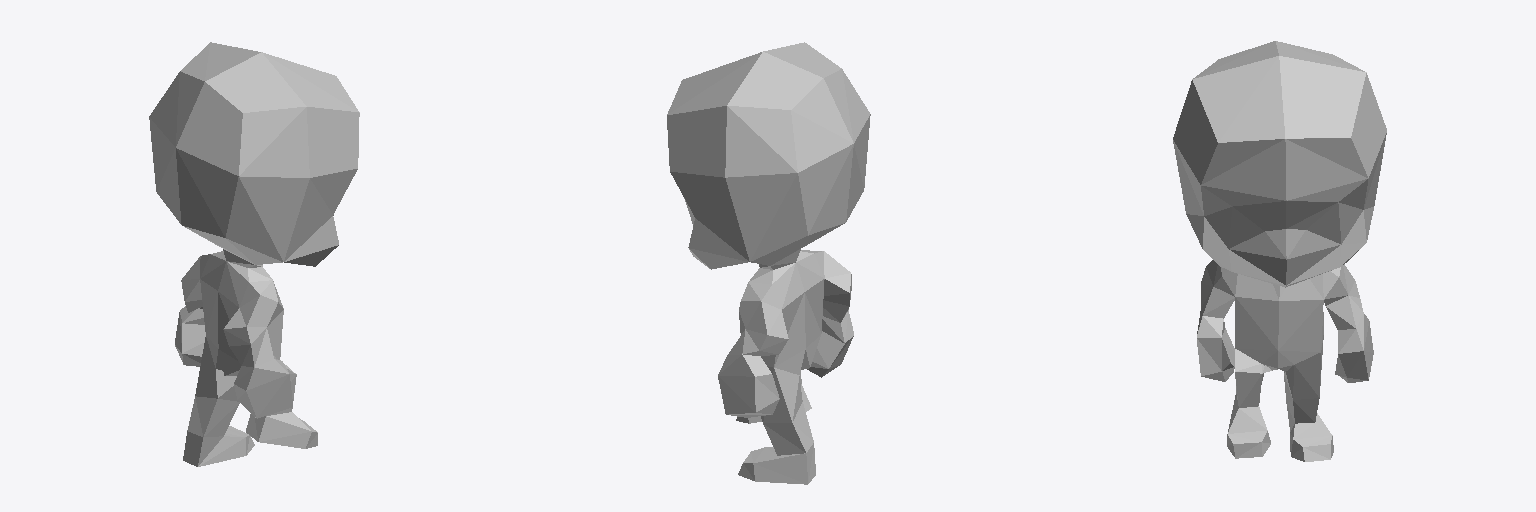
The model's file is male_anim_blender3.obj.
3 views of the same model, side by side, from view 1: azimuth 30°, elevation 25°; view 2: azimuth 150°, elevation 25°; view 3: azimuth 270°, elevation 25° (orthographic).
Parts seen in each view (by area): view 1: male_i_anim_male_i_anim_milkshape.ms3d.m; view 2: male_i_anim_male_i_anim_milkshape.ms3d.m; view 3: male_i_anim_male_i_anim_milkshape.ms3d.m.
Part boxes in pixels (x1,y1,x2,y2): male_i_anim_male_i_anim_milkshape.ms3d.m: (149, 42, 359, 466); male_i_anim_male_i_anim_milkshape.ms3d.m: (667, 42, 870, 484); male_i_anim_male_i_anim_milkshape.ms3d.m: (1173, 41, 1386, 461).
Bounding box in the file's own units: 0.6372 × 1.49 × 0.7122.